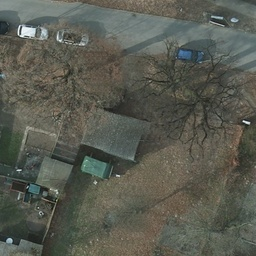car: (17, 23, 50, 43), (56, 28, 89, 47), (175, 48, 205, 66)
